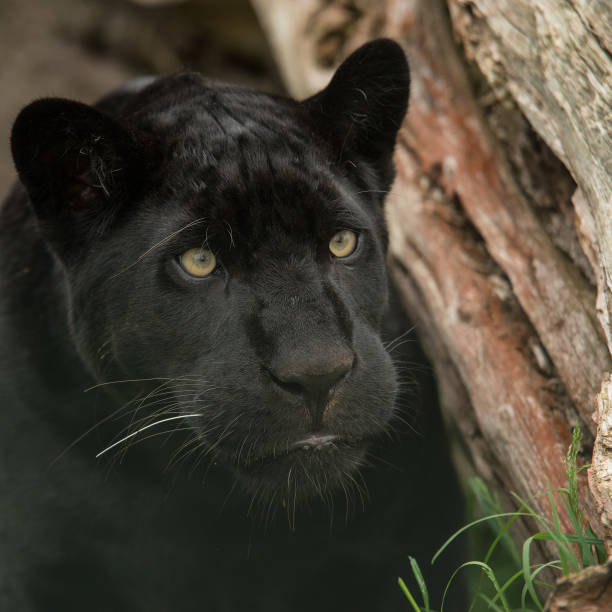panther: (6, 37, 443, 534)
